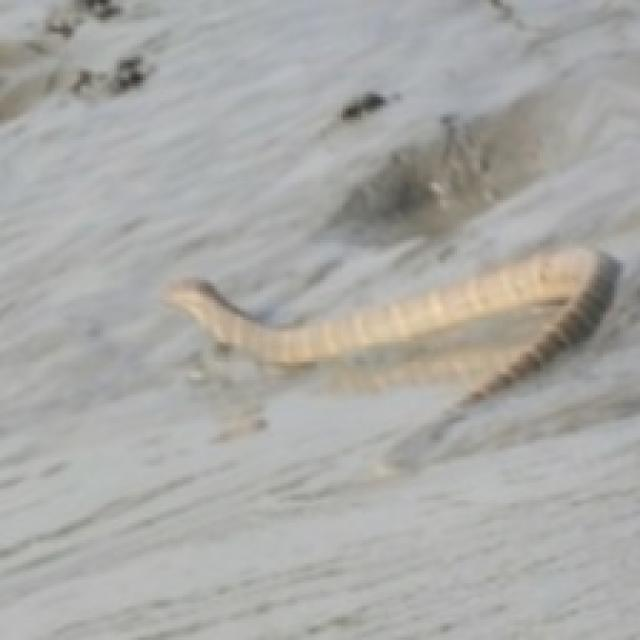king cobra: (163, 249, 617, 400)
